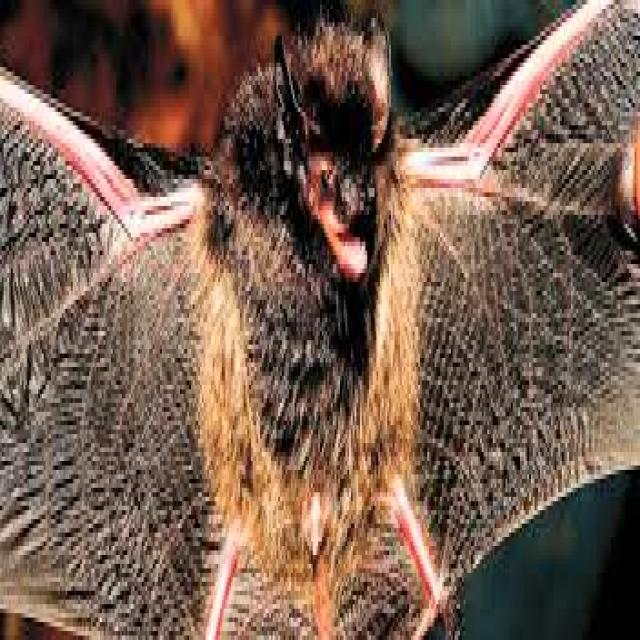bat: (2, 0, 640, 636)
